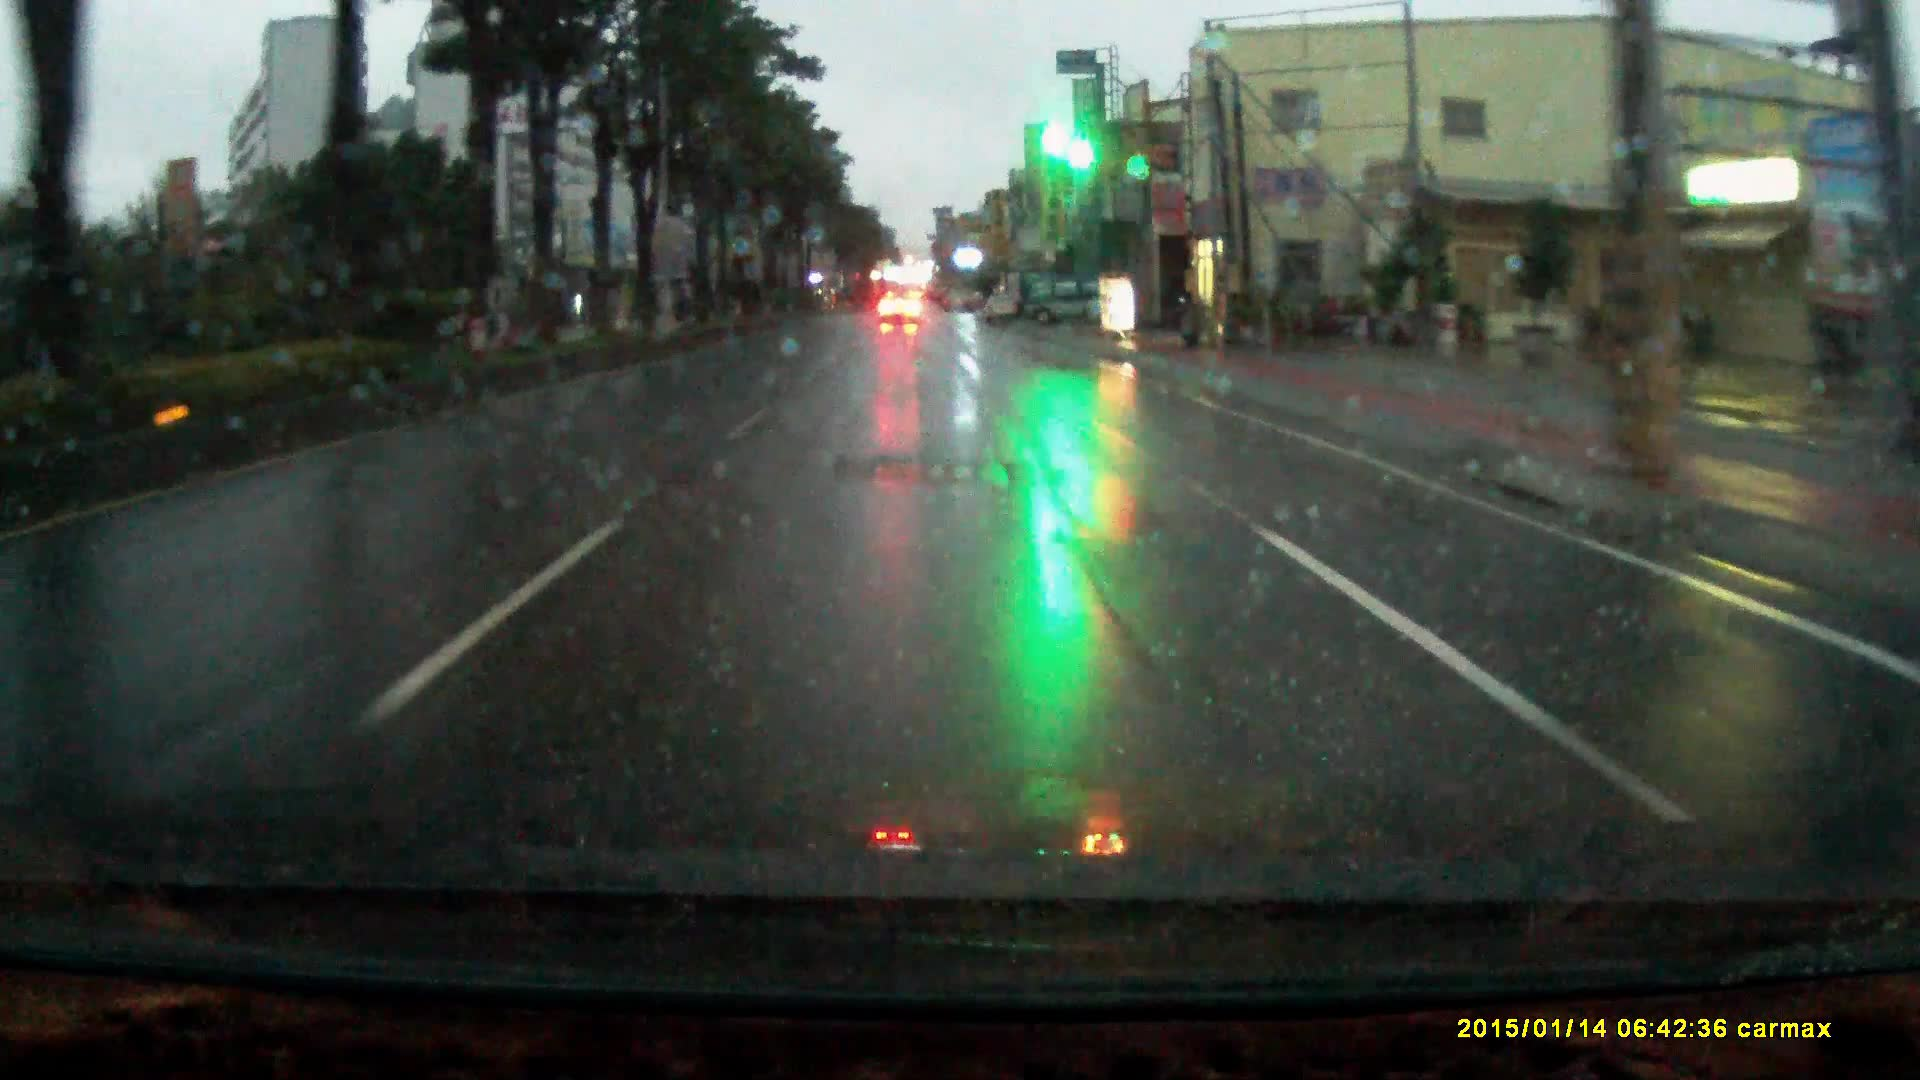vehicle: (1026, 276, 1106, 324), (880, 291, 926, 328)
